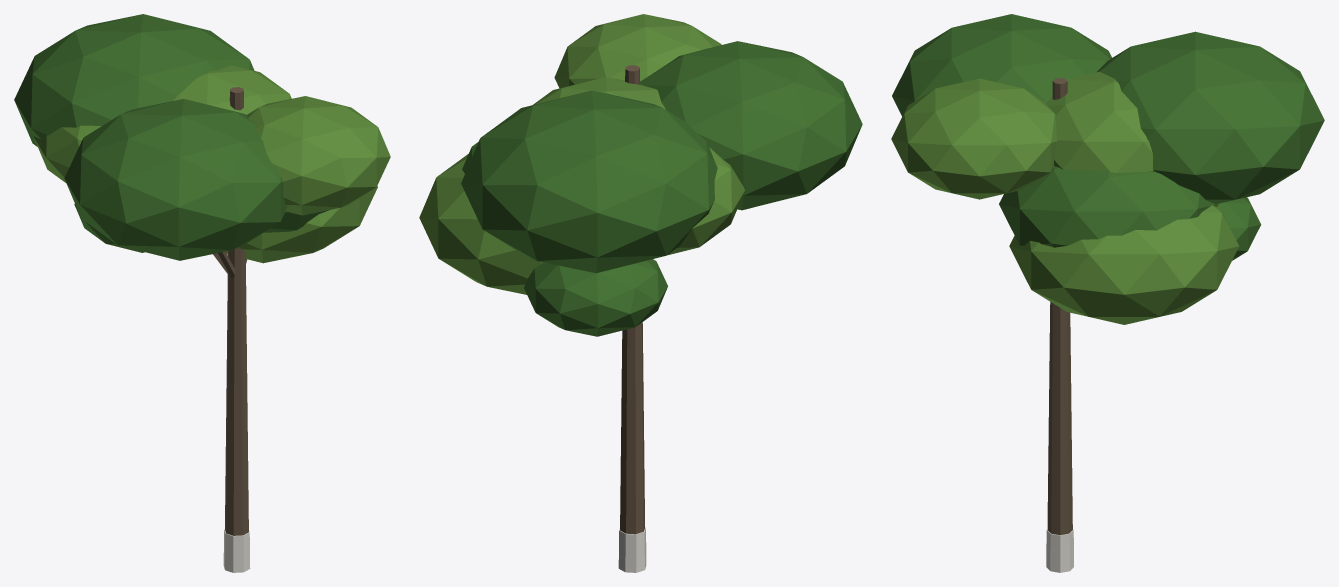
File: street_tree_b.glb
The picture shows the model from 3 angles, left to right: view 1: azimuth 30°, elevation 25°; view 2: azimuth 150°, elevation 25°; view 3: azimuth 270°, elevation 25°; orthographic projection. The views are drawn at different scales.
Visible parts, largest first — view 1: tree; view 2: tree; view 3: tree.
Part boxes in pixels (x1,y1,x2,y2): tree: [14, 14, 390, 572]; tree: [419, 14, 862, 572]; tree: [891, 14, 1324, 572].
Bounding box in the file's own units: 9.69 × 13.51 × 10.56.
